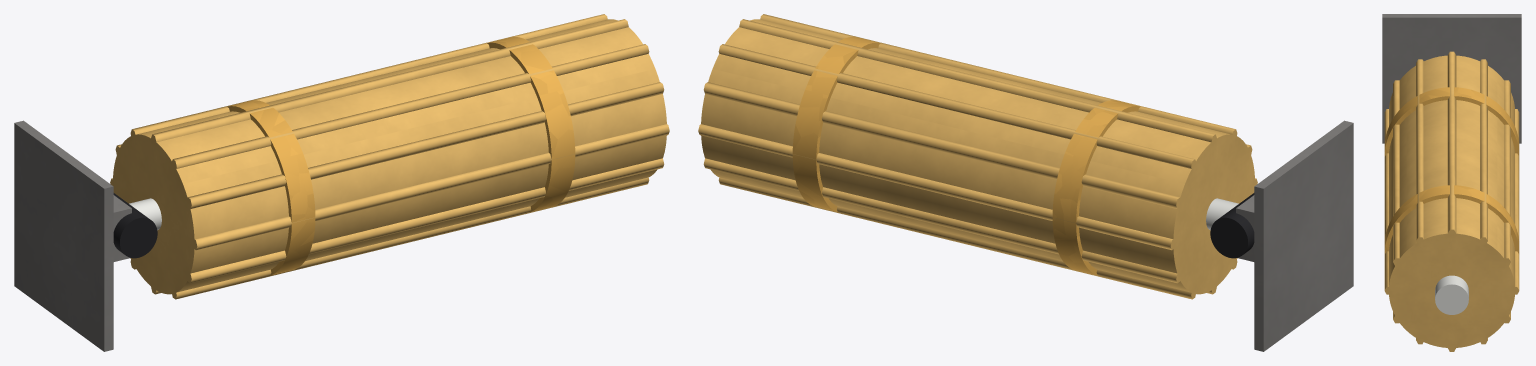
The model's file is power16_mesh_antenna_l.glb.
3 renders of one model, left to right at view 1: azimuth 30°, elevation 25°; view 2: azimuth 150°, elevation 25°; view 3: azimuth 270°, elevation 25°, orthographic. The views are drawn at different scales.
Visible parts, largest first — view 1: stowed_bundle, mount, launch_restraints, hinge, boom; view 2: stowed_bundle, mount, launch_restraints, hinge, boom; view 3: stowed_bundle, mount, launch_restraints, feed.
Part boxes in pixels (bbox=[...]): stowed_bundle: bbox=[110, 14, 669, 299]; mount: bbox=[14, 120, 131, 351]; launch_restraints: bbox=[227, 37, 575, 275]; hinge: bbox=[113, 193, 157, 258]; boom: bbox=[129, 198, 161, 230]; stowed_bundle: bbox=[698, 14, 1257, 299]; mount: bbox=[1236, 120, 1353, 351]; launch_restraints: bbox=[792, 37, 1140, 275]; hinge: bbox=[1210, 193, 1254, 258]; boom: bbox=[1206, 198, 1238, 230]; stowed_bundle: bbox=[1384, 51, 1519, 351]; mount: bbox=[1382, 14, 1521, 143]; launch_restraints: bbox=[1384, 87, 1519, 254]; feed: bbox=[1435, 275, 1468, 314].
Size of the model in its own units: 2.5 by 0.66 by 0.66.
5 materials, 3 textured.
